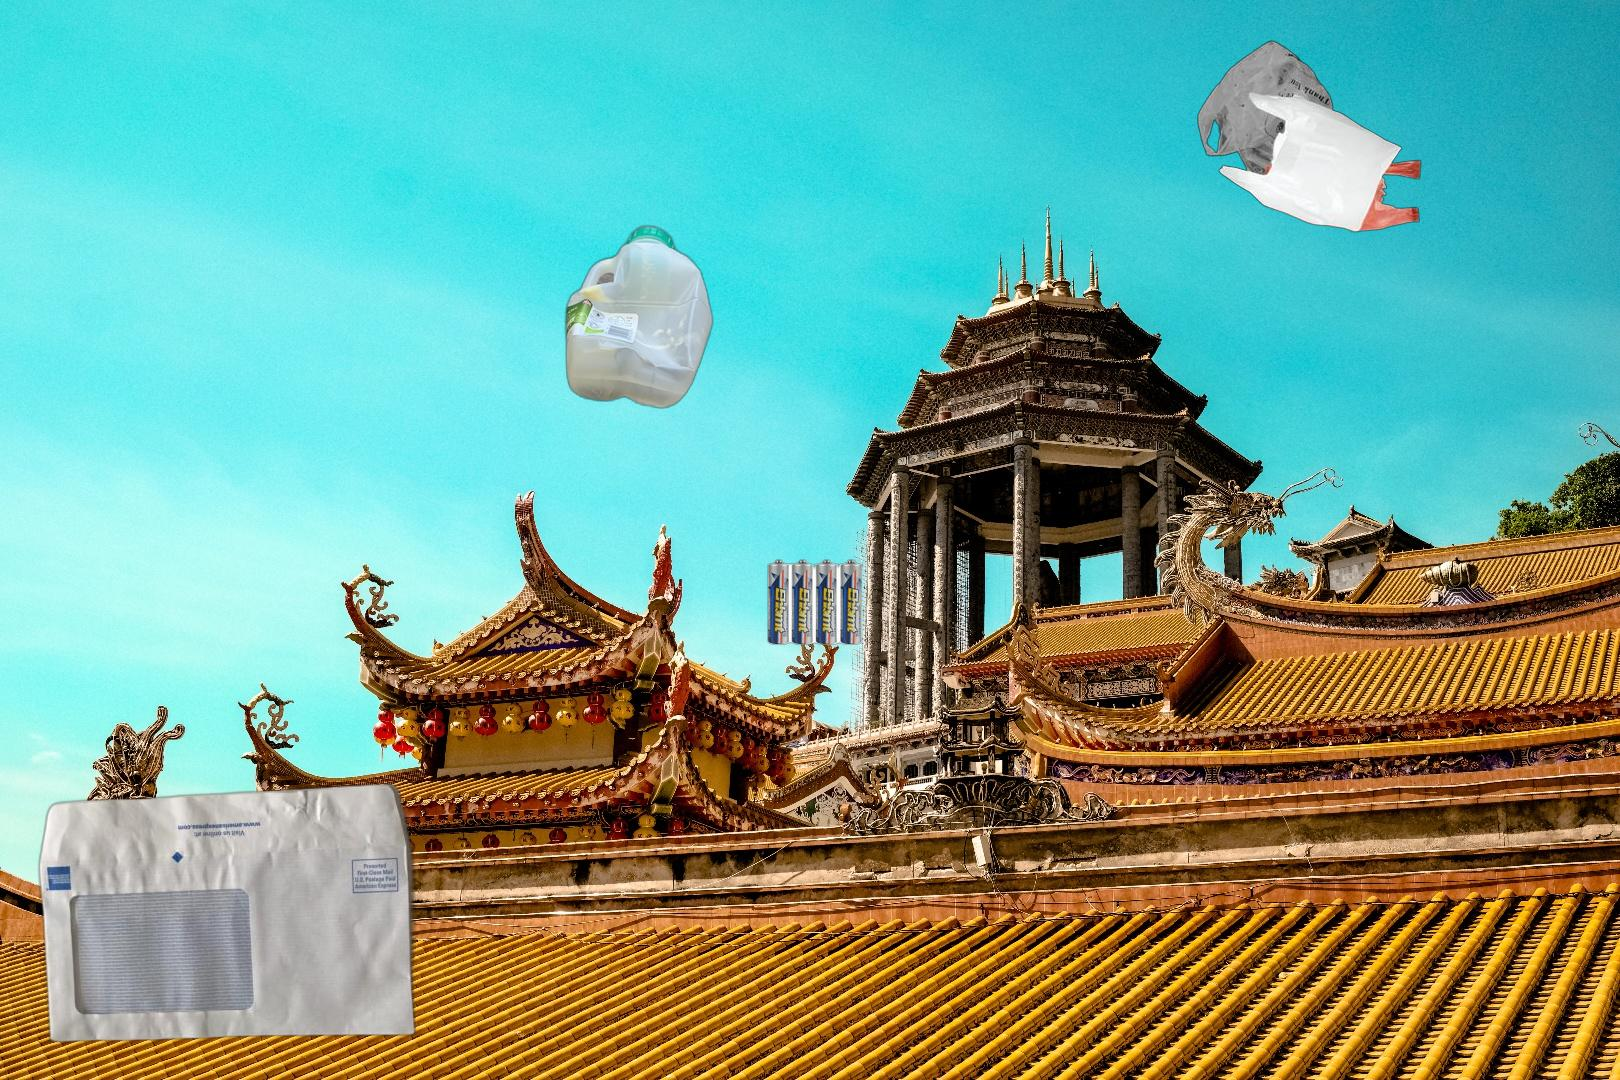battery: (765, 557, 865, 648)
paper: (34, 780, 419, 1046)
plastic-bag: (1195, 39, 1424, 235)
plastic-bottles: (560, 219, 717, 413)
